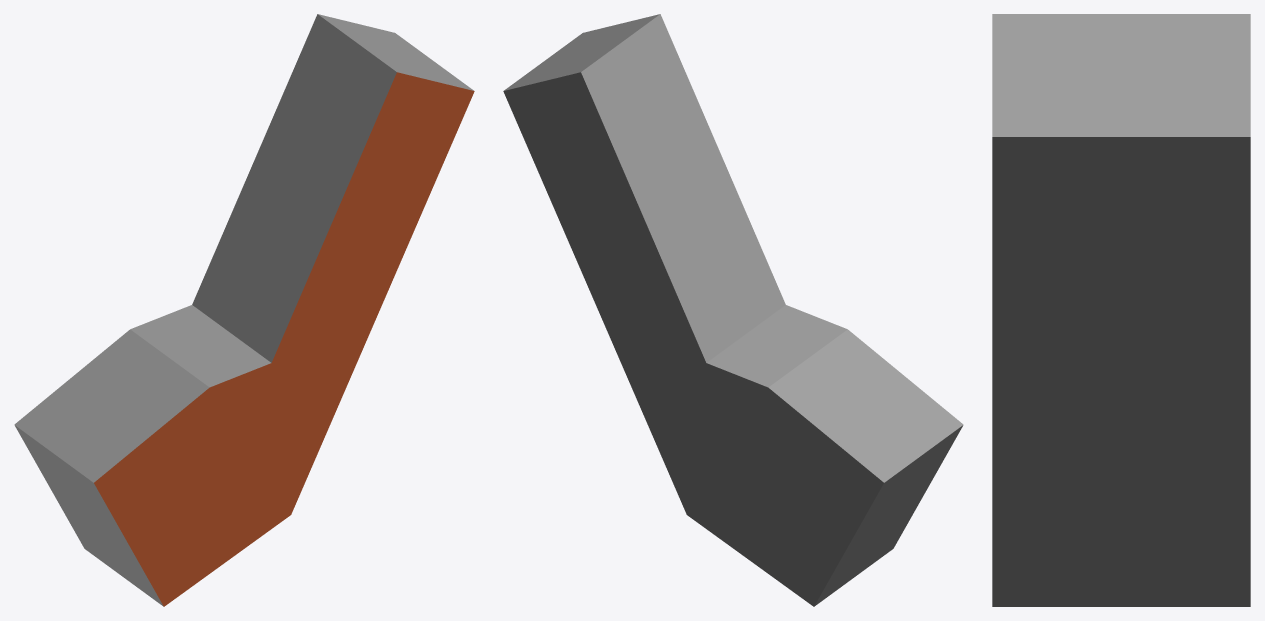
File: construction_5607_assumed_A_Casa_h6m.obj
3 renders of one model, left to right at view 1: azimuth 30°, elevation 25°; view 2: azimuth 150°, elevation 25°; view 3: azimuth 270°, elevation 25°, orthographic. The views are drawn at different scales.
Parts seen in each view (by area): view 1: construction_5607_assumed_A_Casa; view 2: construction_5607_assumed_A_Casa; view 3: construction_5607_assumed_A_Casa.
Part boxes in pixels (x1,y1,x2,y2): construction_5607_assumed_A_Casa: [14, 14, 474, 606]; construction_5607_assumed_A_Casa: [503, 14, 963, 606]; construction_5607_assumed_A_Casa: [992, 14, 1250, 606].
Size of the model in its own units: 16.59 by 19.89 by 6.
